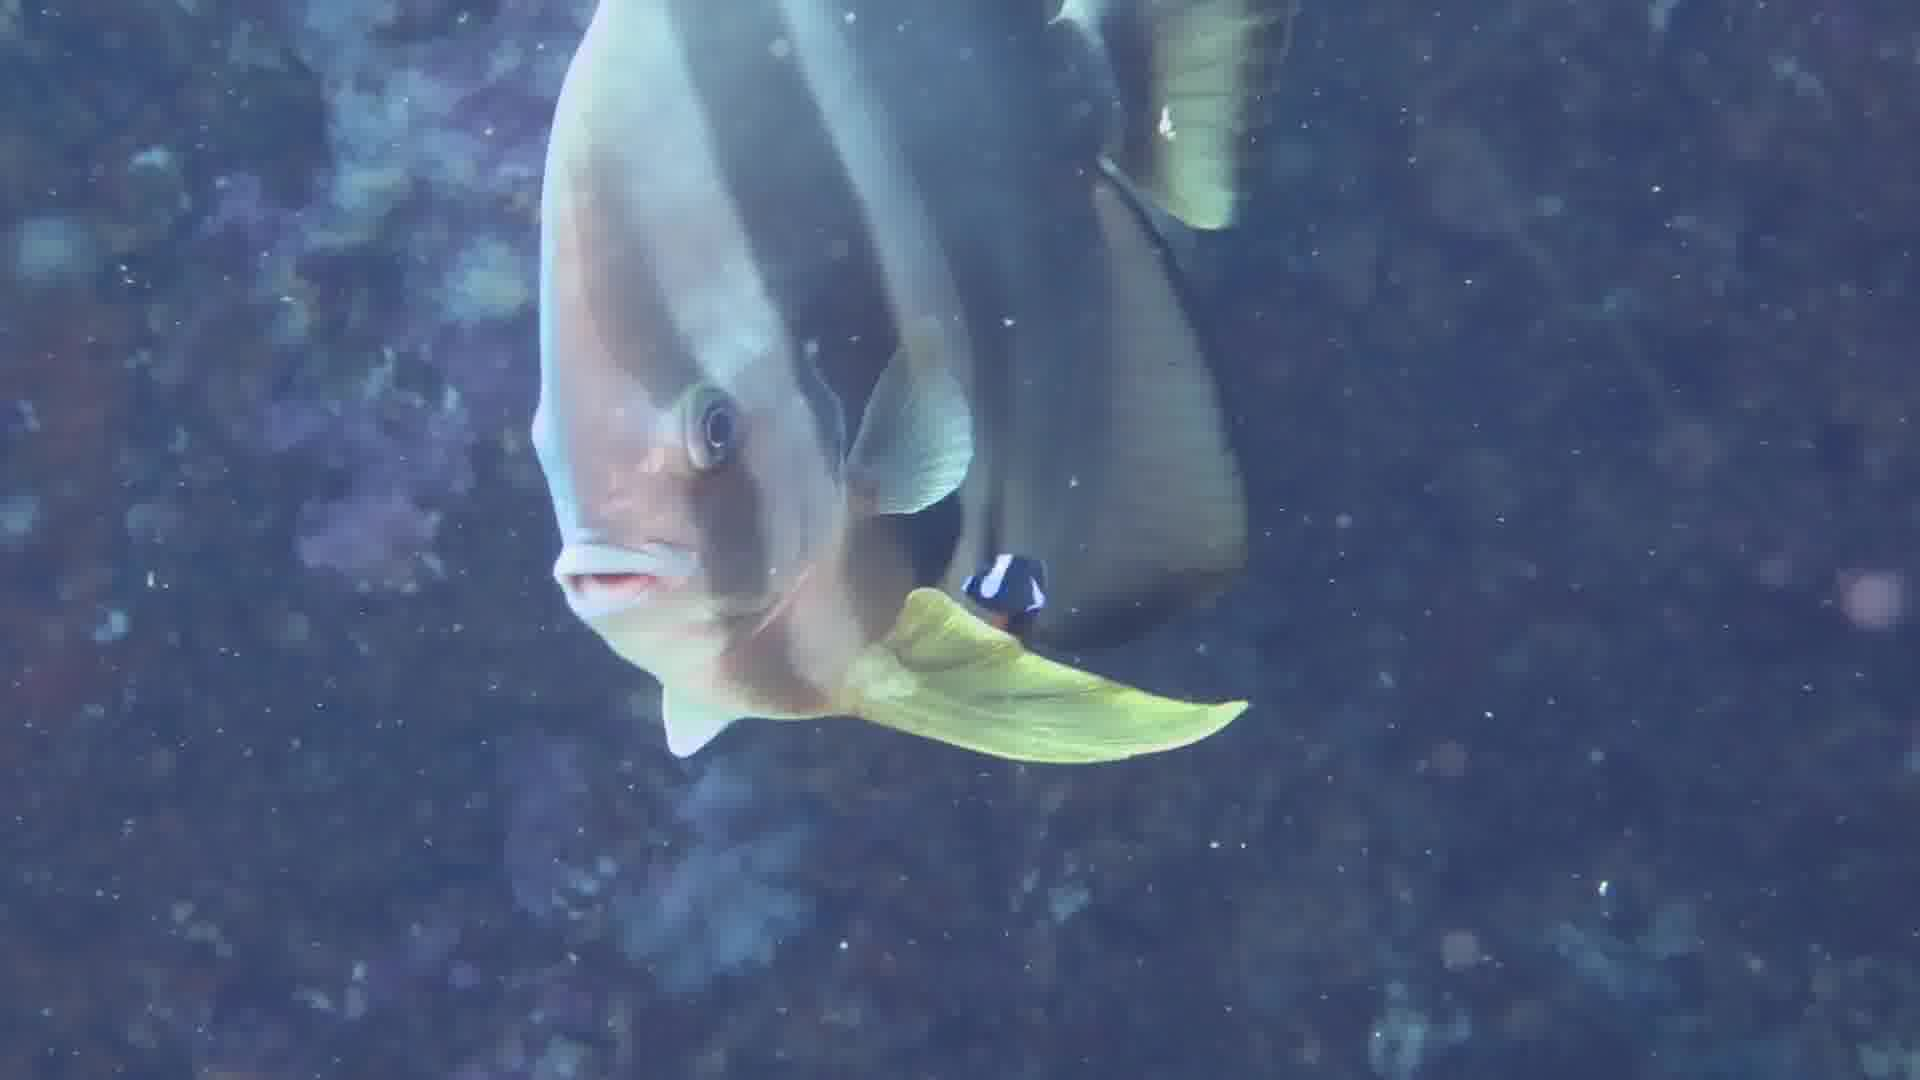Platax teira: (417, 1, 1443, 818)
